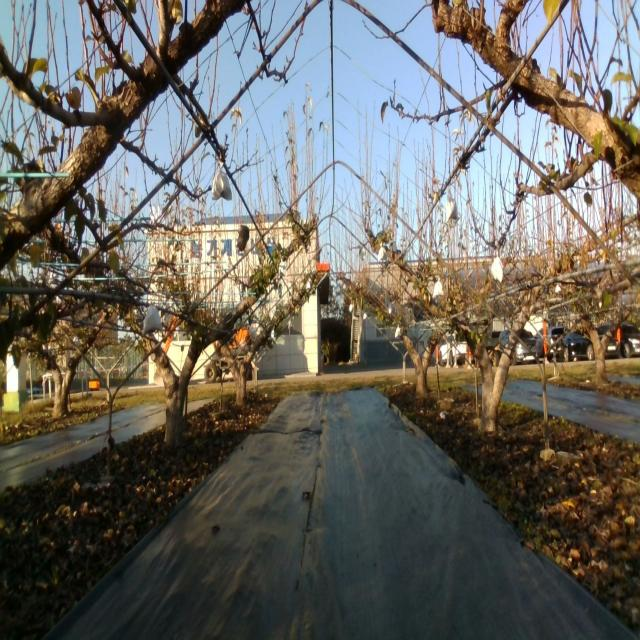pearbags: (211, 160, 232, 201), (142, 304, 163, 338), (490, 253, 505, 285), (445, 193, 458, 222), (432, 276, 443, 300)
